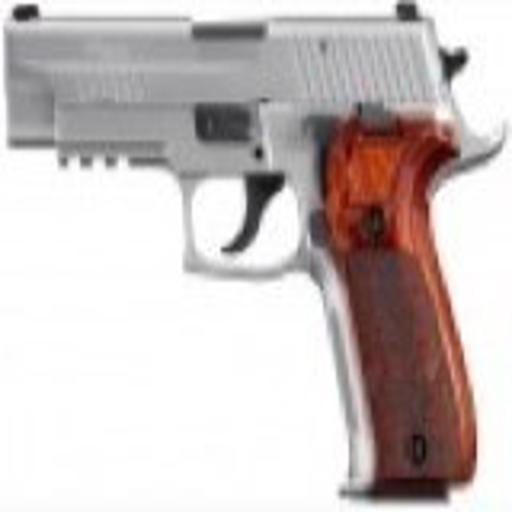Handgun: (2, 3, 501, 493)
